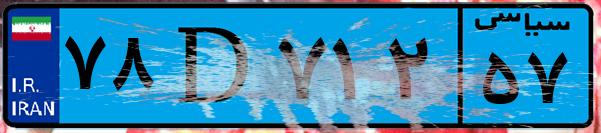1: (330, 28, 385, 110)
2: (385, 28, 445, 110)
5: (475, 38, 525, 113)
7: (270, 28, 330, 110), (57, 26, 110, 100), (525, 38, 570, 115)
8: (110, 28, 158, 98)
D: (158, 12, 270, 120)
